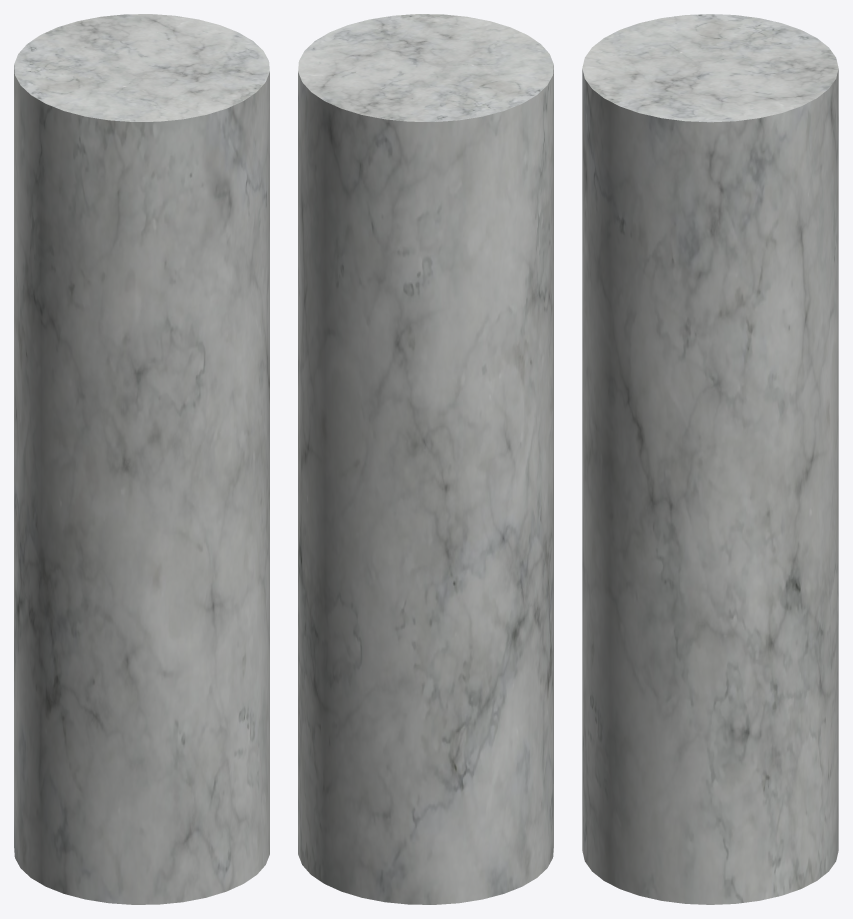
The model's file is SimplePillar-marble.glb.
3 renders of one model, left to right at view 1: azimuth 30°, elevation 25°; view 2: azimuth 150°, elevation 25°; view 3: azimuth 270°, elevation 25°, orthographic.
Visible parts, largest first — view 1: Pillar; view 2: Pillar; view 3: Pillar.
Boxes of the visible parts, x1,y1,x2,y2 form: Pillar: [14, 14, 269, 904]; Pillar: [298, 14, 553, 904]; Pillar: [582, 14, 838, 904].
Bounding box in the file's own units: 0.8903 × 3 × 0.8903.
1 material, 1 textured.
